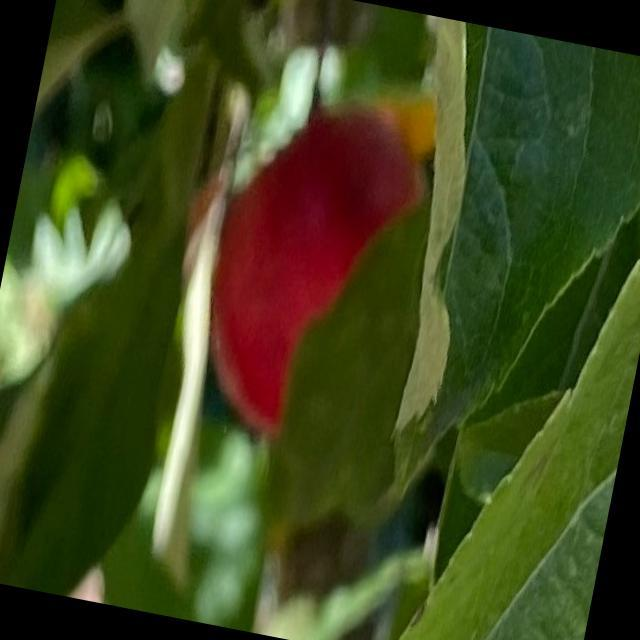100-_ripeness: (188, 82, 440, 447)
